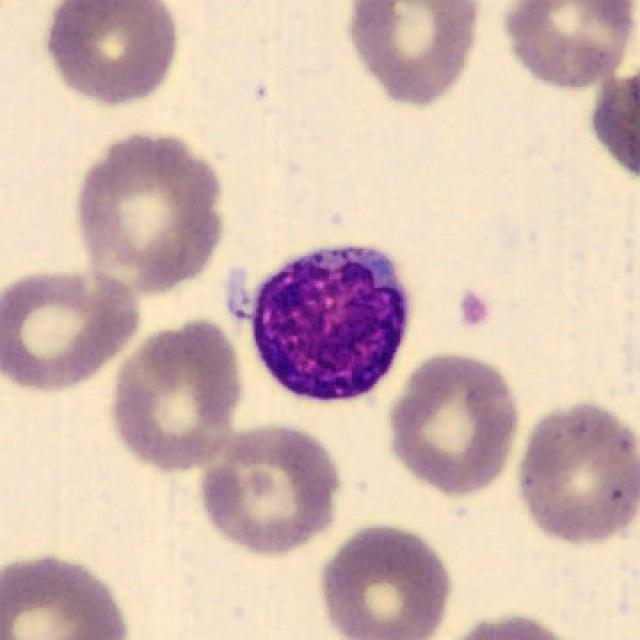Linfocito: (245, 247, 409, 402)
